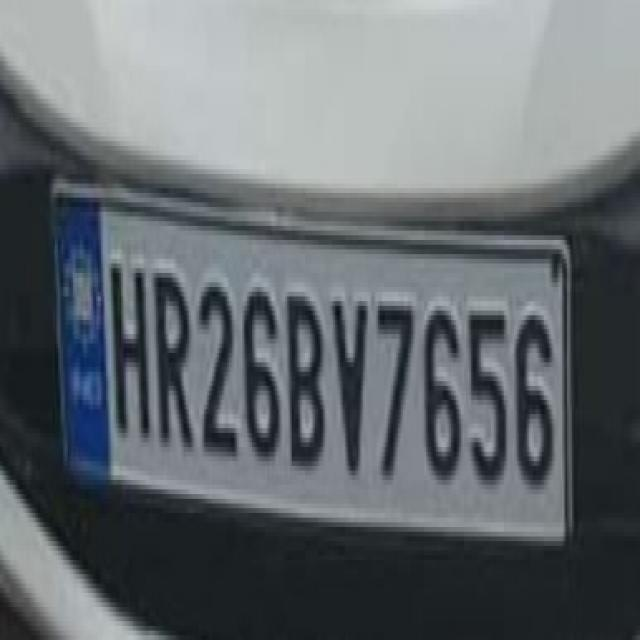5: (465, 284, 515, 496)
6: (509, 297, 561, 510), (422, 279, 464, 499), (240, 265, 282, 468)
7: (377, 254, 418, 502)
B: (283, 259, 326, 496)
H: (107, 239, 153, 464)
R: (149, 247, 195, 461)
V: (328, 270, 373, 503)
